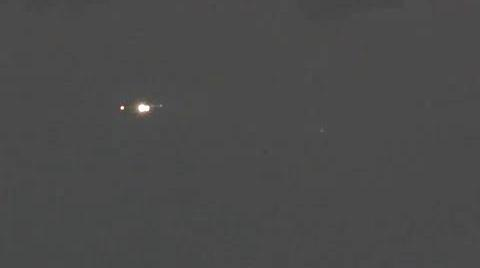Plane: (97, 94, 184, 124)
